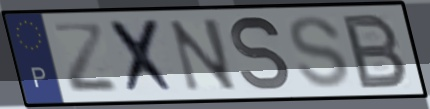B: (340, 11, 411, 92)
N: (166, 16, 240, 94)
S: (228, 13, 293, 94), (286, 13, 352, 91)
X: (105, 17, 182, 96)
Z: (49, 21, 121, 95)
